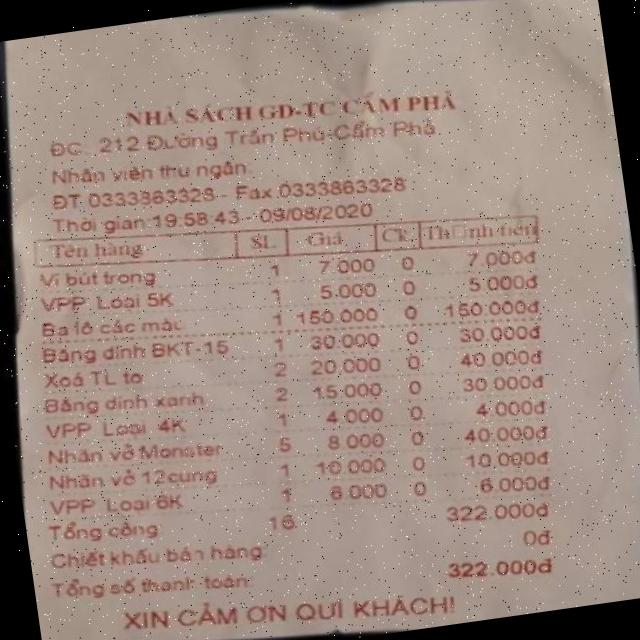Date: (254, 183, 394, 240)
Store_Name: (103, 42, 468, 165)
amount_number: (438, 546, 542, 592)
label_total: (45, 548, 258, 622)
